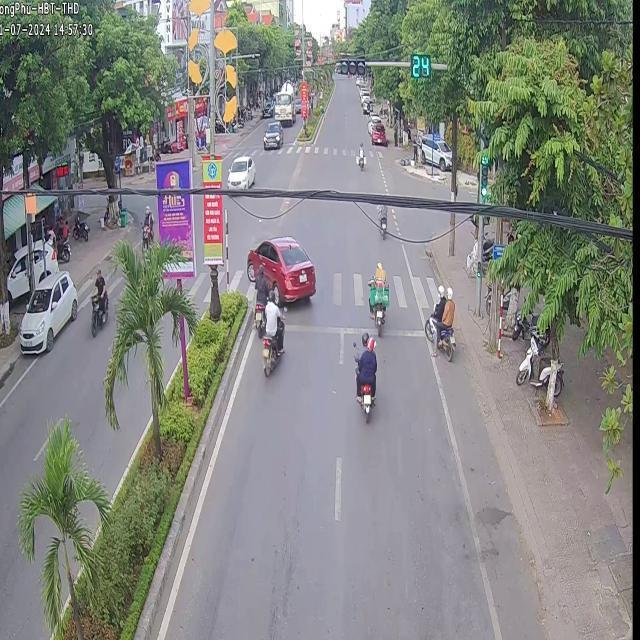car: (246, 234, 314, 300), (226, 154, 254, 189)
green_light: (410, 52, 429, 80), (481, 149, 488, 199)
motobike: (367, 282, 387, 331), (89, 289, 107, 336), (260, 334, 278, 376), (437, 325, 454, 360), (359, 382, 372, 419), (252, 298, 263, 334), (376, 202, 386, 238), (423, 316, 434, 342)
stop_line: (284, 321, 367, 332), (379, 325, 423, 336)
